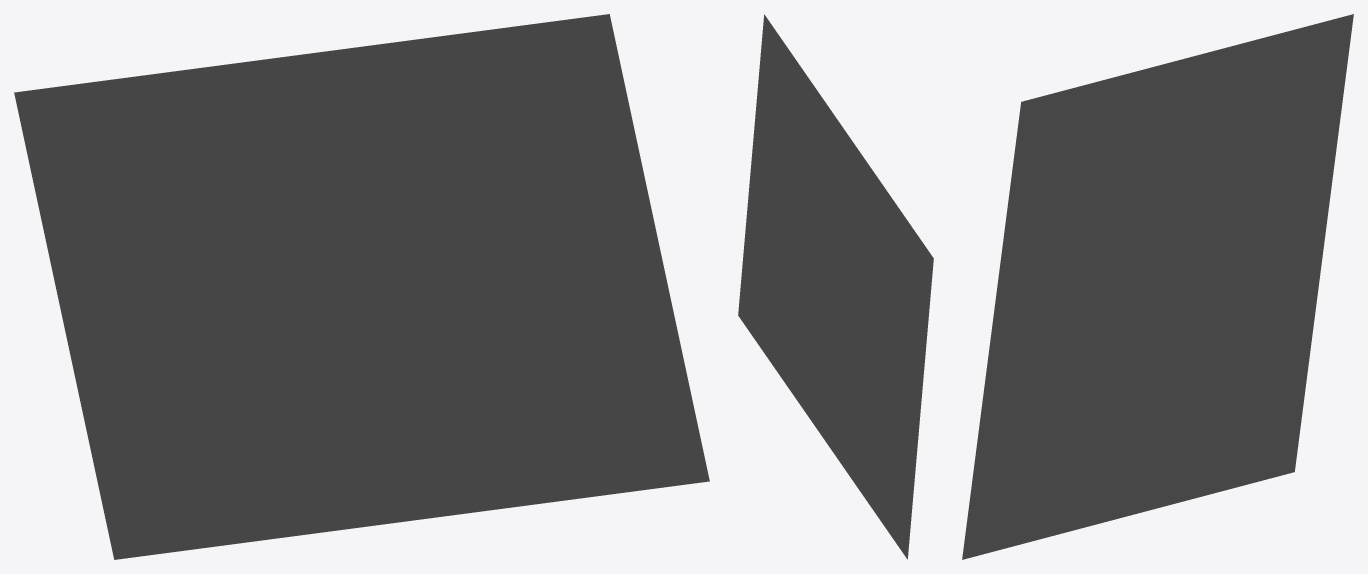
Rendered from window_glass.glb.
3 renders of one model, left to right at view 1: azimuth 30°, elevation 25°; view 2: azimuth 150°, elevation 25°; view 3: azimuth 270°, elevation 25°, orthographic. The views are drawn at different scales.
Parts seen in each view (by area): view 1: Object; view 2: Object; view 3: Object.
Part boxes in pixels (bbox=[...]): Object: bbox=[14, 14, 709, 559]; Object: bbox=[738, 14, 933, 559]; Object: bbox=[962, 14, 1353, 559].
Size of the model in its own units: 2.83 by 3.18 by 2.14.
Materials: 1 (1 with a texture image).
